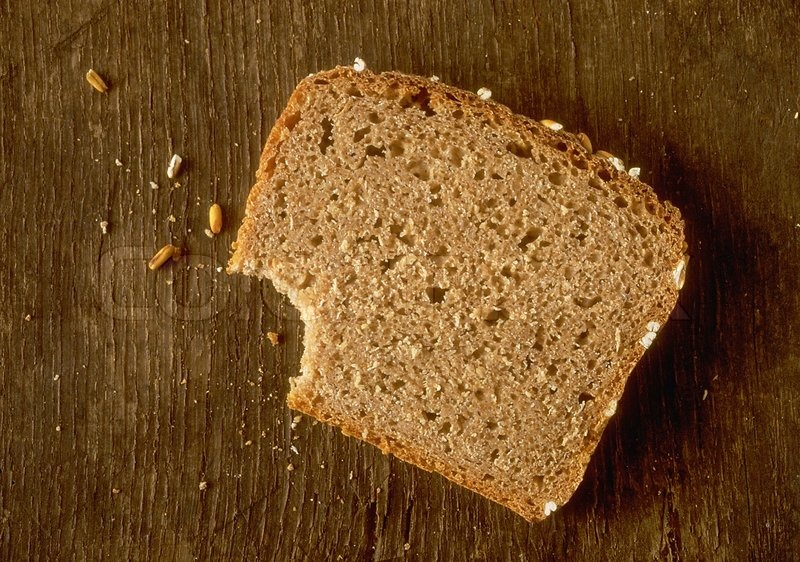slice of bread: (229, 66, 690, 519)
